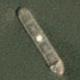ship: (0, 0, 30, 37)
